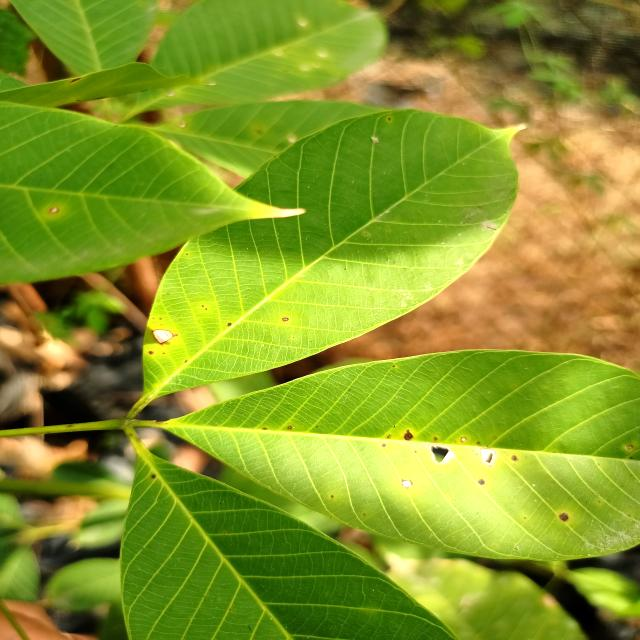Colletotrichum: (152, 328, 173, 344), (402, 479, 414, 488), (403, 432, 413, 440), (558, 513, 568, 521), (478, 478, 486, 485), (626, 445, 634, 450), (511, 455, 517, 461), (460, 437, 467, 442), (282, 318, 289, 322), (148, 351, 154, 354), (227, 323, 232, 326), (288, 426, 292, 429)
